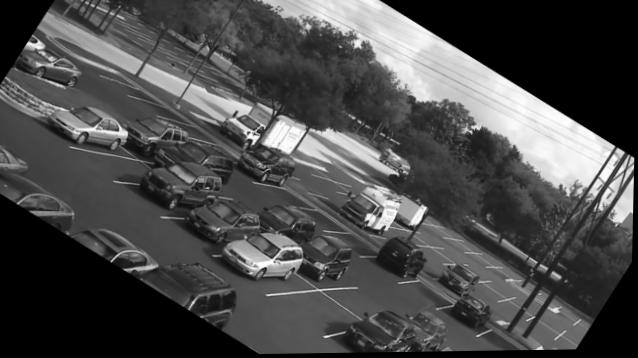empty: (267, 288, 361, 334), (72, 151, 151, 185), (106, 74, 165, 106), (340, 285, 394, 313), (475, 328, 530, 352), (300, 207, 349, 232), (403, 283, 452, 308), (258, 185, 311, 207), (133, 100, 185, 121), (336, 229, 376, 253), (176, 122, 218, 143), (526, 320, 564, 343), (496, 301, 535, 322), (511, 296, 546, 318), (317, 177, 359, 195), (222, 185, 259, 203), (418, 247, 453, 266), (488, 280, 521, 299), (538, 314, 569, 334), (479, 283, 509, 303), (393, 229, 428, 245), (439, 246, 470, 264), (556, 308, 584, 327), (466, 265, 498, 281), (415, 231, 447, 246), (491, 266, 525, 280), (423, 256, 443, 277), (562, 328, 585, 346), (428, 225, 457, 238), (555, 337, 580, 351), (467, 255, 498, 266), (572, 319, 593, 335), (488, 304, 507, 321), (449, 241, 476, 252)
occupied: (138, 263, 235, 335), (220, 233, 304, 288), (139, 161, 223, 214), (0, 172, 75, 231), (72, 229, 163, 274), (46, 106, 129, 151), (180, 199, 259, 245), (341, 310, 417, 354), (339, 187, 402, 235), (236, 140, 296, 189), (15, 47, 82, 88), (259, 204, 324, 246), (370, 237, 428, 284), (166, 140, 234, 180), (126, 117, 188, 157), (303, 236, 354, 283), (410, 312, 449, 353), (450, 295, 494, 331), (440, 265, 481, 299), (0, 144, 27, 170)
